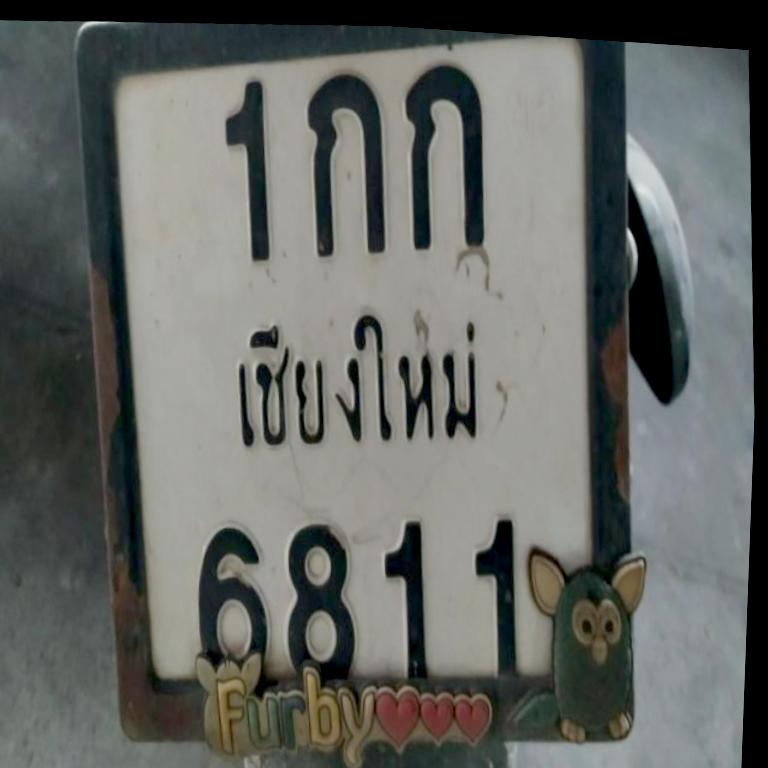license plate: (43, 5, 674, 768)
